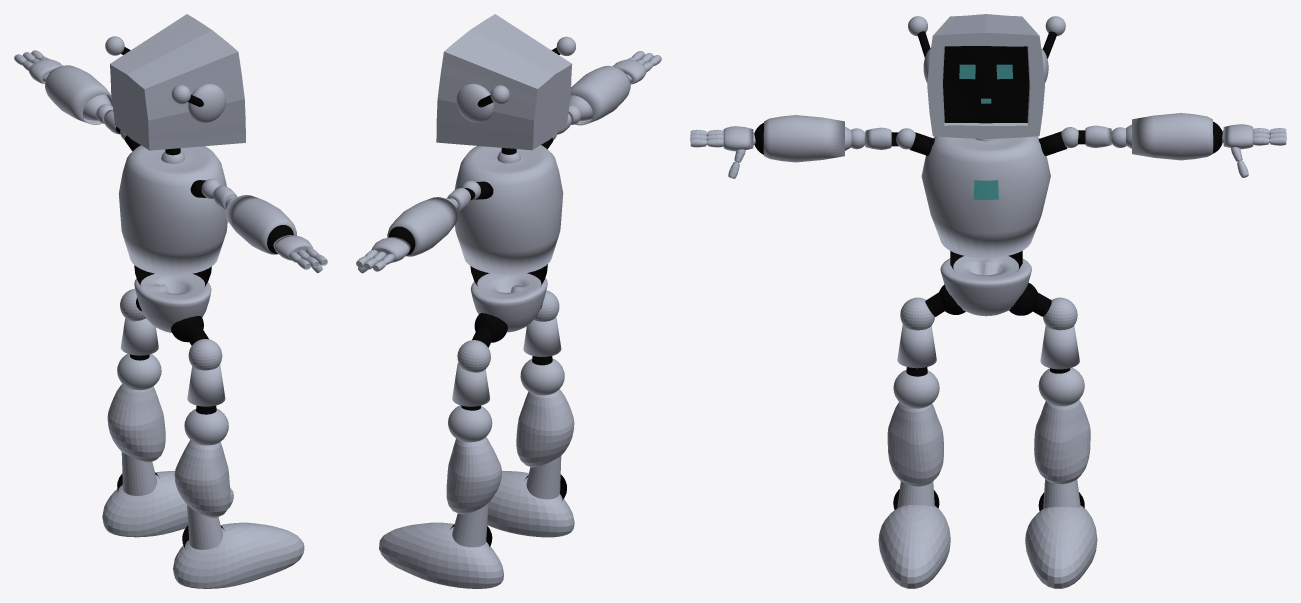
Rendered from robotnew.fbx.
3 renders of one model, left to right at view 1: azimuth 30°, elevation 25°; view 2: azimuth 150°, elevation 25°; view 3: azimuth 270°, elevation 25°, orthographic. The views are drawn at different scales.
Parts seen in each view (by area): view 1: туловище, голова.004, нога.002, нога.003, предплечье, предплечье.003, бедро.006, бедро.007, плечо, кисть, кисть.001, плечо.005; view 2: туловище, голова.004, нога.003, нога.002, предплечье.003, предплечье, бедро.007, бедро.006, плечо.005, кисть.001, кисть; view 3: туловище, голова.004, нога.003, нога.002, предплечье, предплечье.003, бедро.006, бедро.007, плечо, плечо.005.
Boxes of the visible parts, x1=… form: туловище: x1=118, y1=135, x2=227, y2=345; голова.004: x1=105, y1=14, x2=245, y2=150; нога.002: x1=173, y1=408, x2=304, y2=588; нога.003: x1=102, y1=354, x2=233, y2=537; предплечье: x1=225, y1=195, x2=296, y2=254; предплечье.003: x1=45, y1=65, x2=112, y2=124; бедро.006: x1=187, y1=339, x2=225, y2=414; бедро.007: x1=120, y1=288, x2=158, y2=360; плечо: x1=201, y1=179, x2=237, y2=209; кисть: x1=273, y1=235, x2=312, y2=260; кисть.001: x1=29, y1=59, x2=62, y2=83; плечо.005: x1=96, y1=104, x2=126, y2=139; туловище: x1=454, y1=138, x2=563, y2=347; голова.004: x1=436, y1=14, x2=575, y2=150; нога.003: x1=379, y1=405, x2=503, y2=588; нога.002: x1=487, y1=358, x2=574, y2=537; предплечье.003: x1=387, y1=197, x2=458, y2=256; предплечье: x1=569, y1=65, x2=630, y2=125; бедро.007: x1=452, y1=340, x2=490, y2=410; бедро.006: x1=523, y1=290, x2=561, y2=365; плечо.005: x1=445, y1=180, x2=480, y2=211; кисть.001: x1=371, y1=237, x2=410, y2=262; кисть: x1=613, y1=59, x2=646, y2=84; туловище: x1=909, y1=131, x2=1067, y2=316; голова.004: x1=908, y1=14, x2=1065, y2=138; нога.003: x1=1025, y1=367, x2=1097, y2=588; нога.002: x1=878, y1=369, x2=950, y2=588; предплечье: x1=754, y1=115, x2=851, y2=162; предплечье.003: x1=1126, y1=113, x2=1222, y2=160; бедро.006: x1=897, y1=297, x2=936, y2=376; бедро.007: x1=1040, y1=297, x2=1079, y2=373; плечо: x1=851, y1=127, x2=915, y2=149; плечо.005: x1=1061, y1=125, x2=1126, y2=147.
Size of the model in its own units: 254 by 888 by 903.
